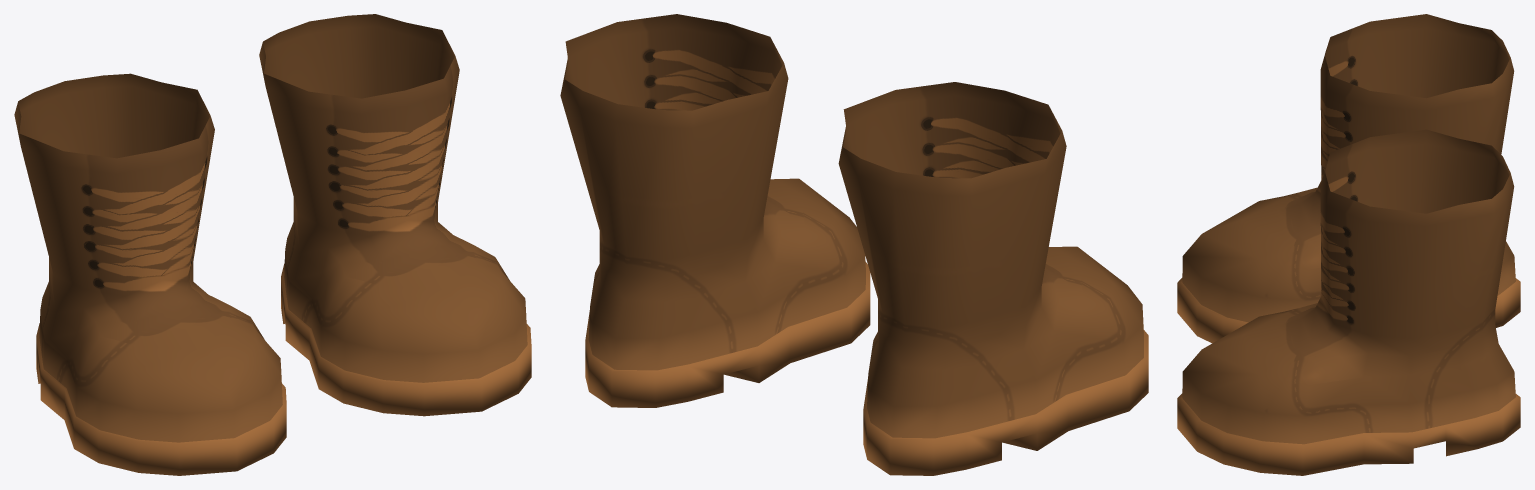
Rendered from botas.glb.
The picture shows the model from 3 angles, left to right: view 1: azimuth 30°, elevation 25°; view 2: azimuth 150°, elevation 25°; view 3: azimuth 270°, elevation 25°; orthographic projection. The views are drawn at different scales.
Parts seen in each view (by area): view 1: zapatos; view 2: zapatos; view 3: zapatos.
Boxes of the visible parts, box(x1,y1,x2,y2) form: zapatos: box(14, 14, 531, 475); zapatos: box(560, 14, 1148, 475); zapatos: box(1177, 14, 1520, 475).
Size of the model in its own units: 0.392 by 0.2266 by 0.2732.
1 material, 1 textured.
